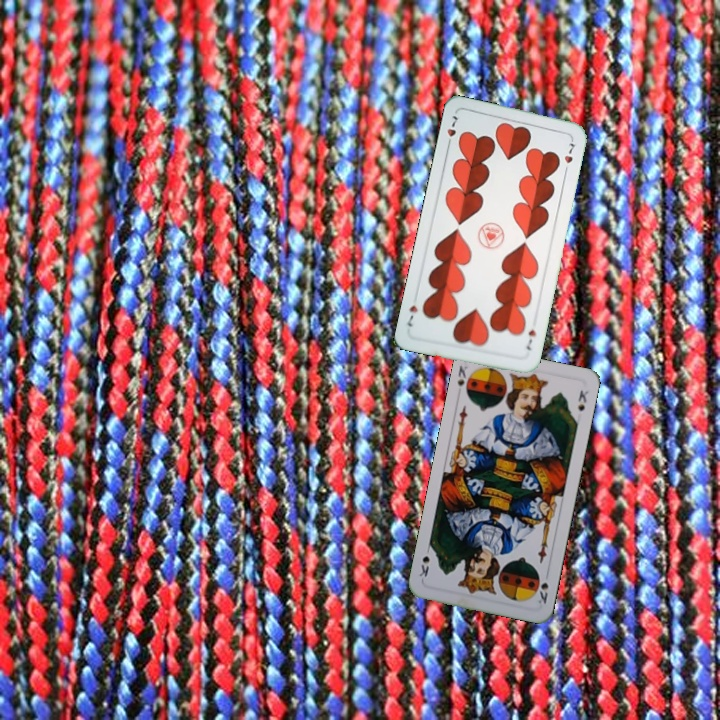H7: (443, 111, 461, 150), (522, 325, 539, 353)
SK: (534, 578, 551, 607), (453, 361, 470, 389)
